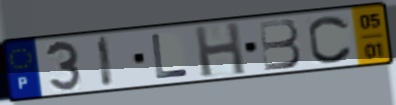3: (44, 38, 83, 93)
B: (256, 17, 304, 73)
C: (306, 13, 355, 65)
H: (192, 20, 249, 79)
I: (96, 34, 116, 89)
L: (149, 32, 190, 81)
